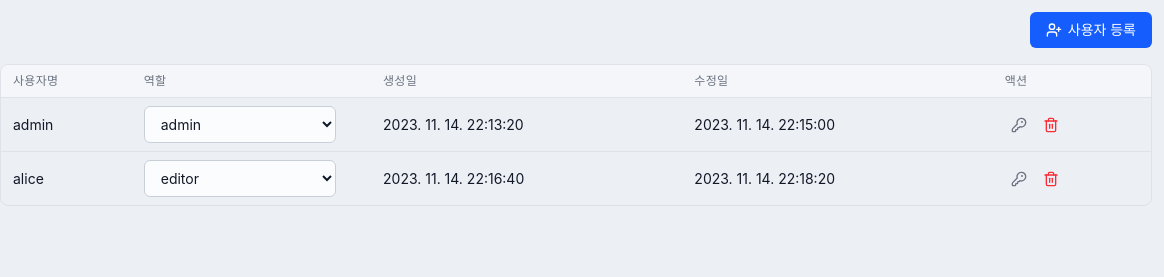
Test: UsersPanel 역할 변경·비밀번호 재설정 (AC-03) › 자기 자신 강등이 409 로 거부되면 사유를 안내하고 목록은 변하지 않는다
Expected: the row with test id "admin-user-row-alice" is shown, 1,152 -> 1151,205
Select "viewer" in the dropdown named "역할 변경" next to "admin" at (240, 124), box 144,106 -> 336,143
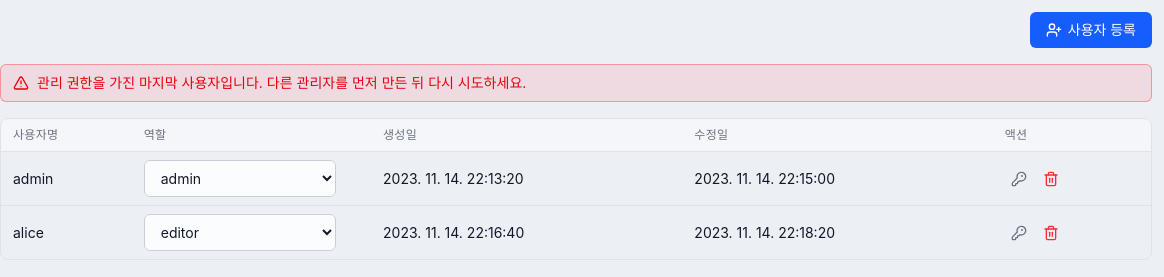
Now the message with test id "admin-action-error" shows "관리 권한을 가진 마지막 사용자입니다.", box 37,74 -> 526,91
